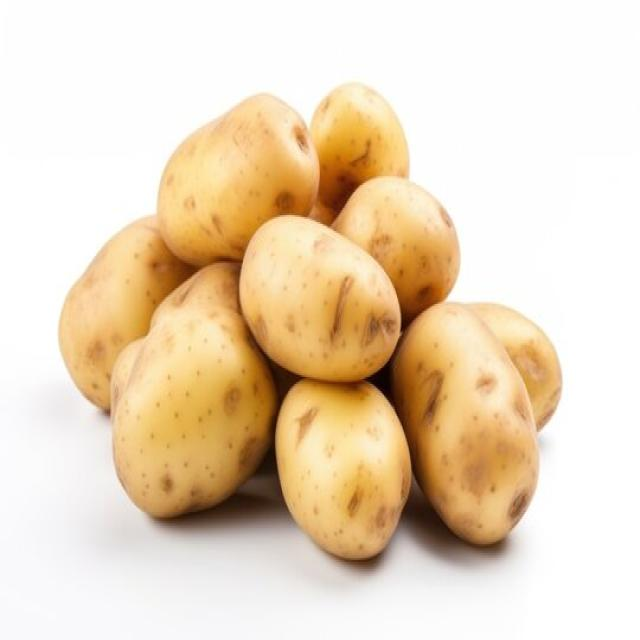Potato: (109, 260, 277, 519), (390, 298, 539, 546), (155, 90, 320, 266), (238, 212, 401, 382), (57, 212, 193, 412), (274, 377, 411, 560), (328, 174, 460, 326), (307, 80, 409, 222), (463, 300, 562, 432)
